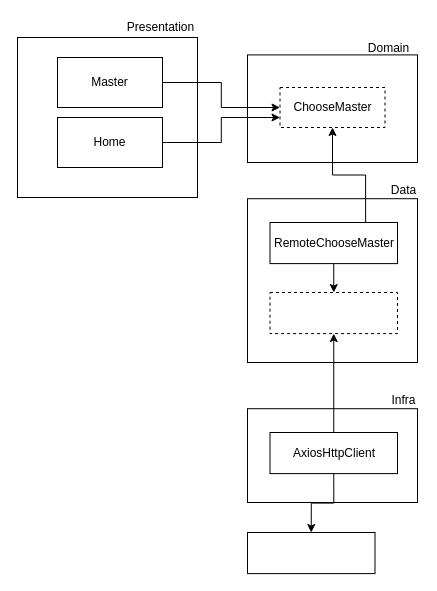
This 437x591 diagram has some shape labels left out. Each missing label, with the centre of its shape:
Axios: (310,553)
HttpClient: (333,313)
